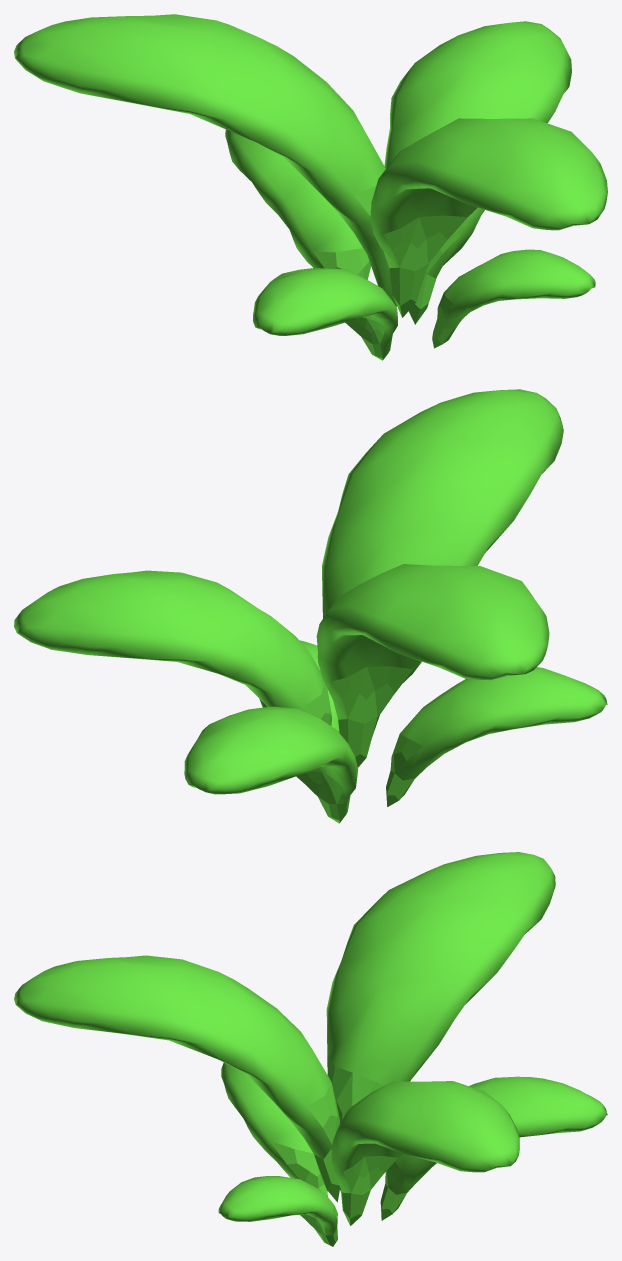
Rendered from dry_grass3.glb.
3 views of the same model, one above another, from view 1: azimuth 30°, elevation 25°; view 2: azimuth 150°, elevation 25°; view 3: azimuth 270°, elevation 25° (orthographic). The views are drawn at different scales.
Visible parts, largest first — view 1: dry_grass3; view 2: dry_grass3; view 3: dry_grass3.
Part boxes in pixels (x1,y1,x2,y2): dry_grass3: (14, 14, 607, 360); dry_grass3: (14, 389, 607, 823); dry_grass3: (14, 852, 607, 1246).
Size of the model in its own units: 3.25 by 1.92 by 3.62.
